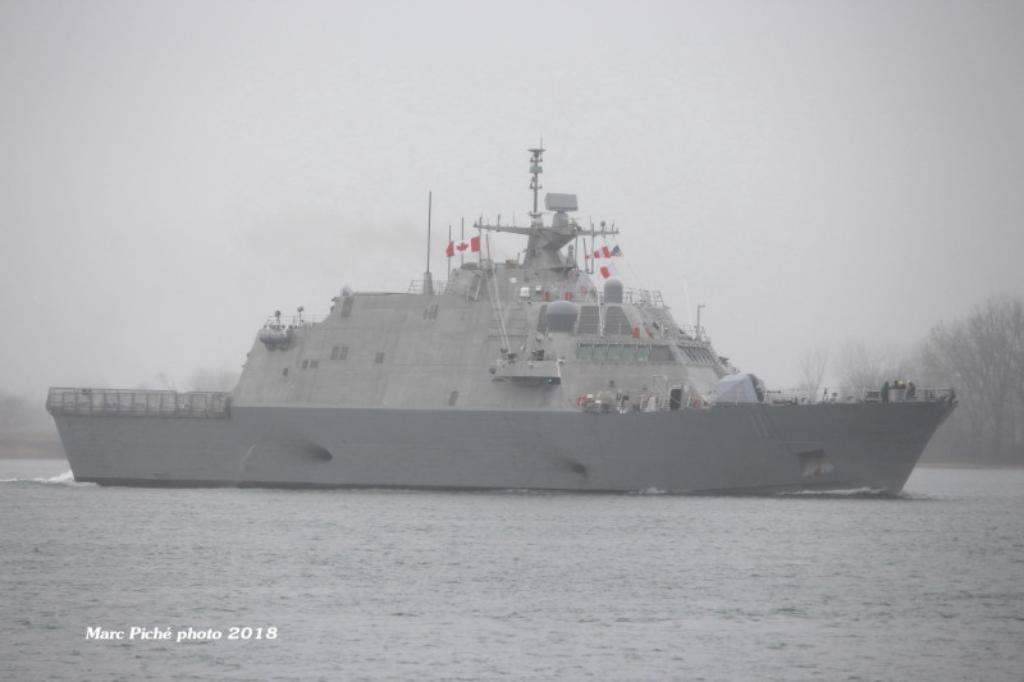Warship: (42, 139, 962, 497)
